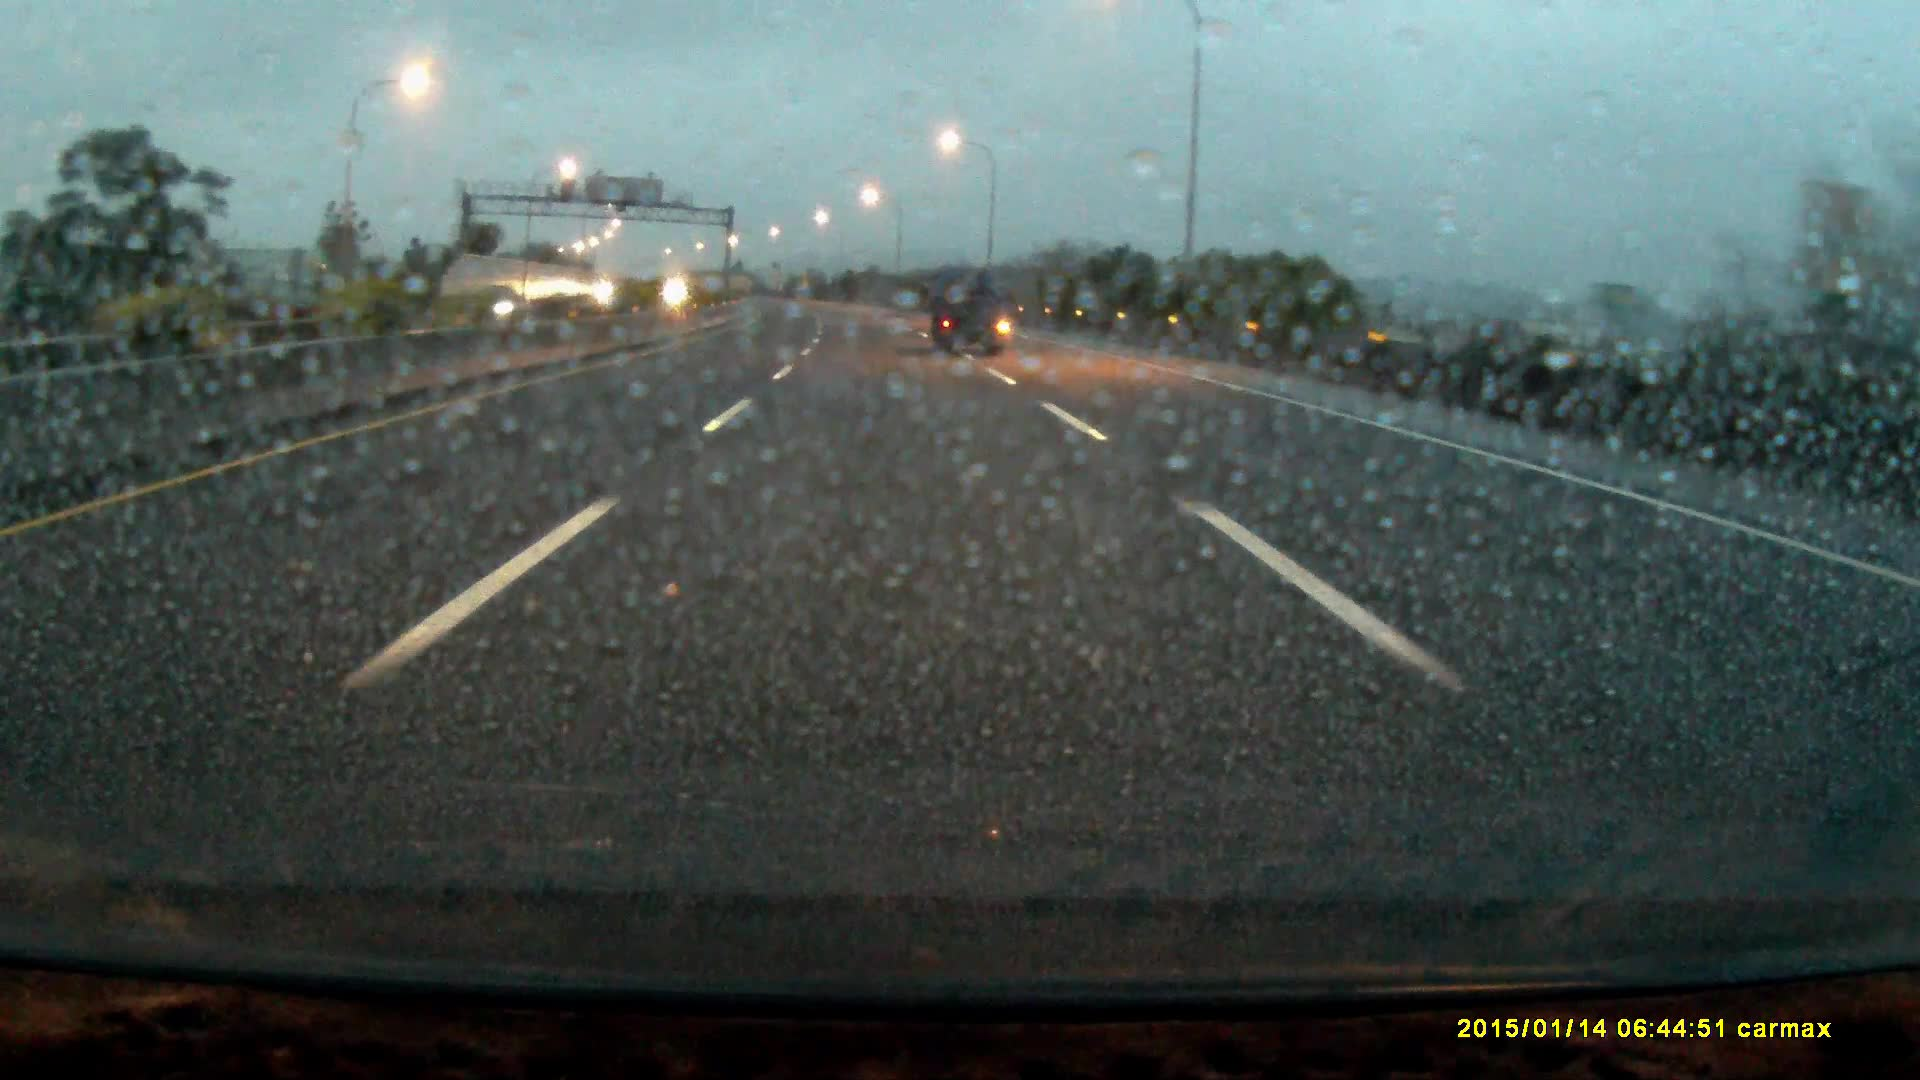vehicle: (928, 272, 1013, 357)
